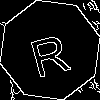R: (25, 25, 72, 79)
